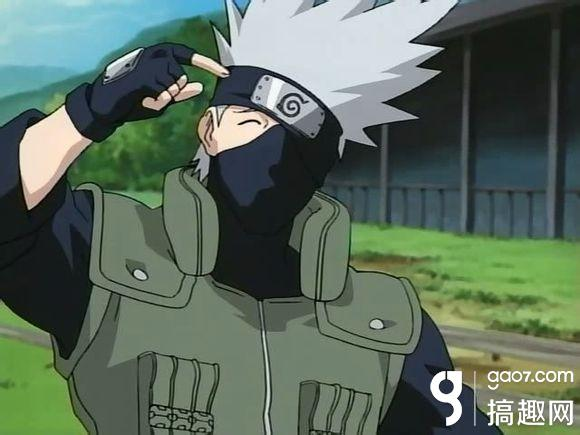kakashi: (197, 61, 347, 241)
